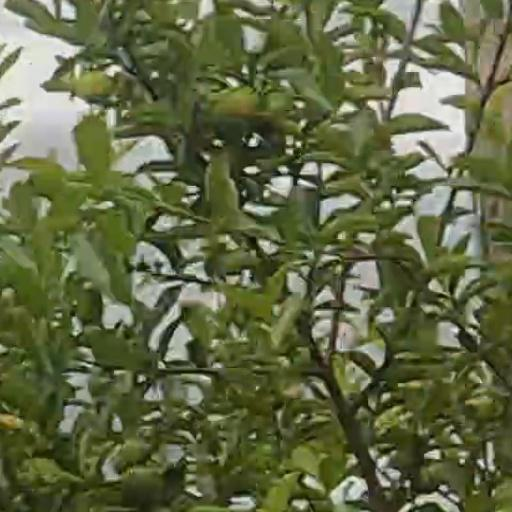acerola: (482, 84, 512, 142), (77, 72, 111, 102)
